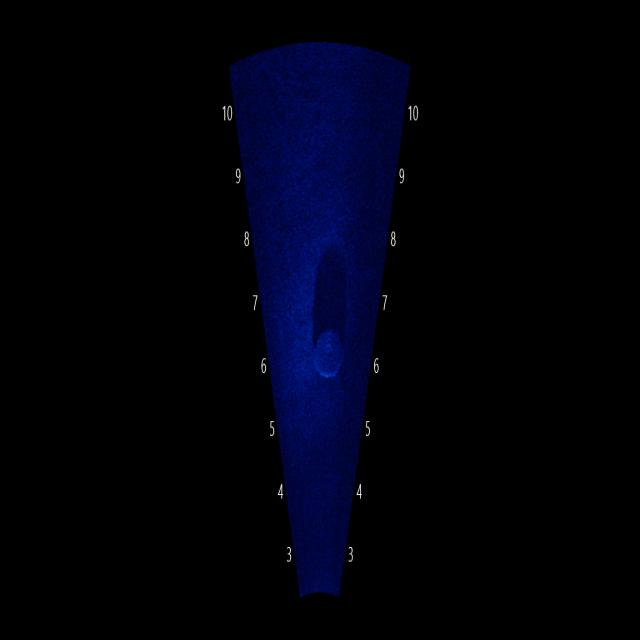circle: (308, 316, 354, 392)
